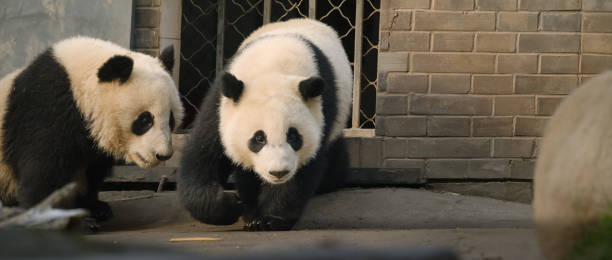panda: (206, 65, 339, 201), (90, 42, 196, 175)
